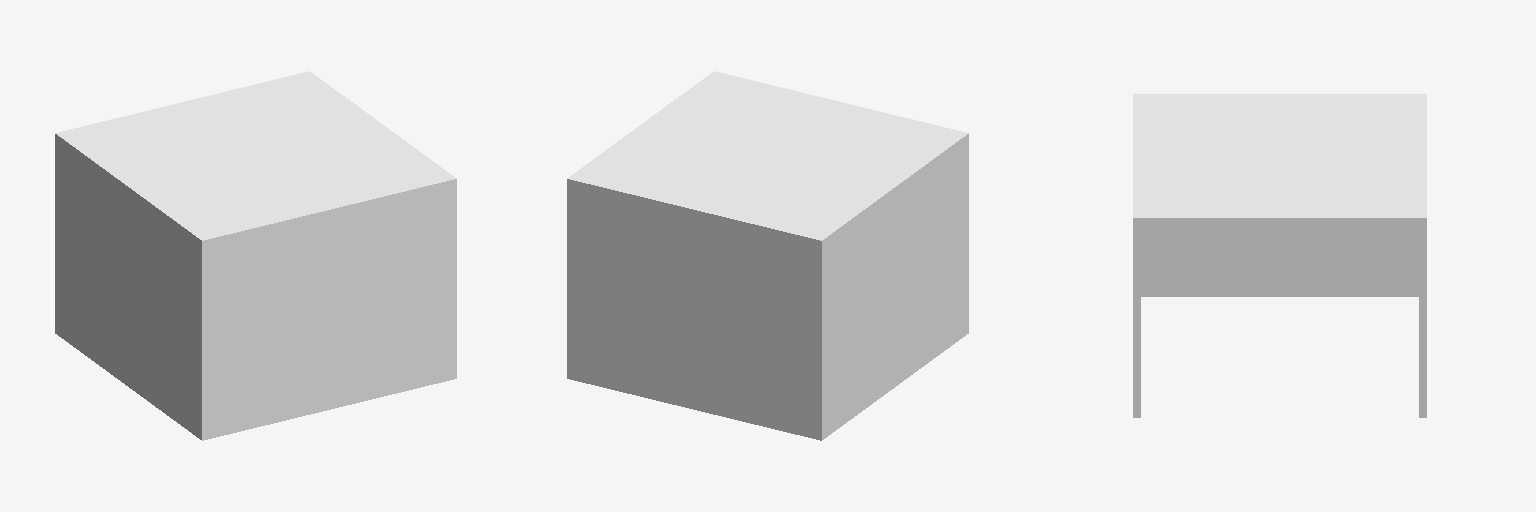
The model's file is AngleGrass.obj.
3 renders of one model, left to right at view 1: azimuth 30°, elevation 25°; view 2: azimuth 150°, elevation 25°; view 3: azimuth 270°, elevation 25°, orthographic.
Visible parts, largest first — view 1: object 1; view 2: object 1; view 3: object 1.
Boxes of the visible parts, x1=… form: object 1: x1=55, y1=71, x2=456, y2=440; object 1: x1=567, y1=71, x2=968, y2=440; object 1: x1=1133, y1=94, x2=1426, y2=417.
Bounding box in the file's own units: 3.6 × 2.7 × 3.6.